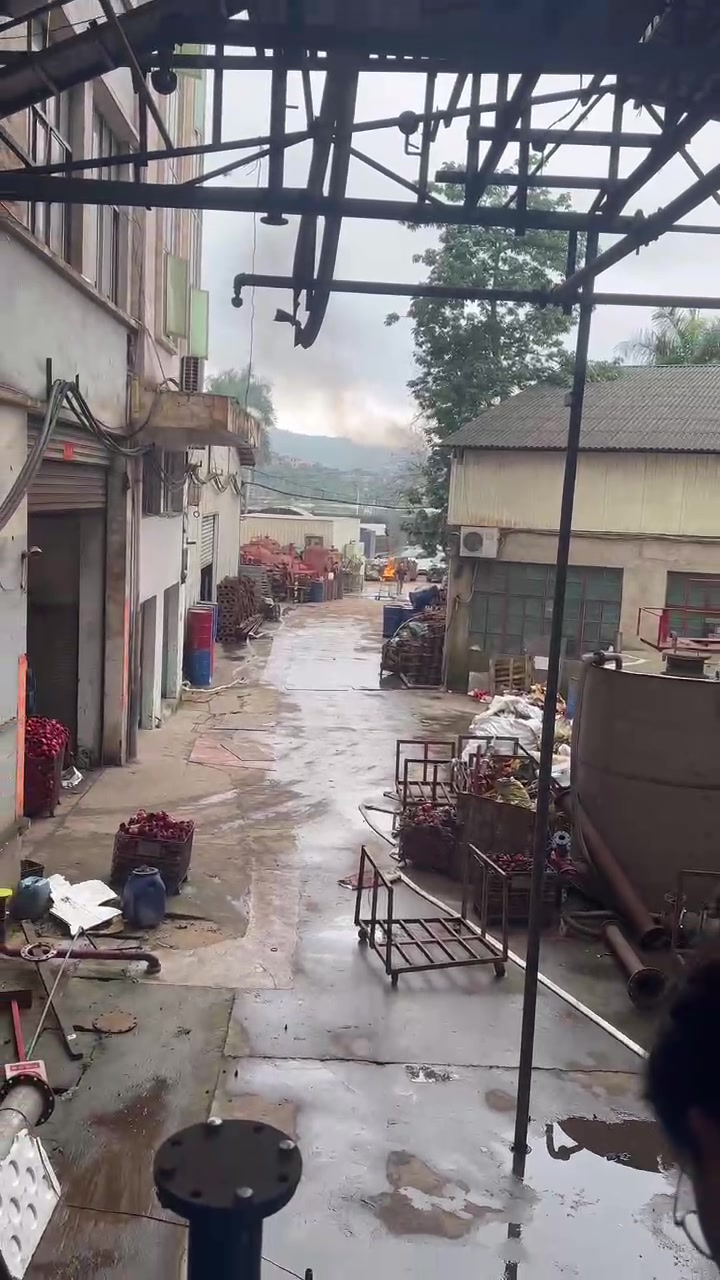fire: (382, 567, 394, 575)
